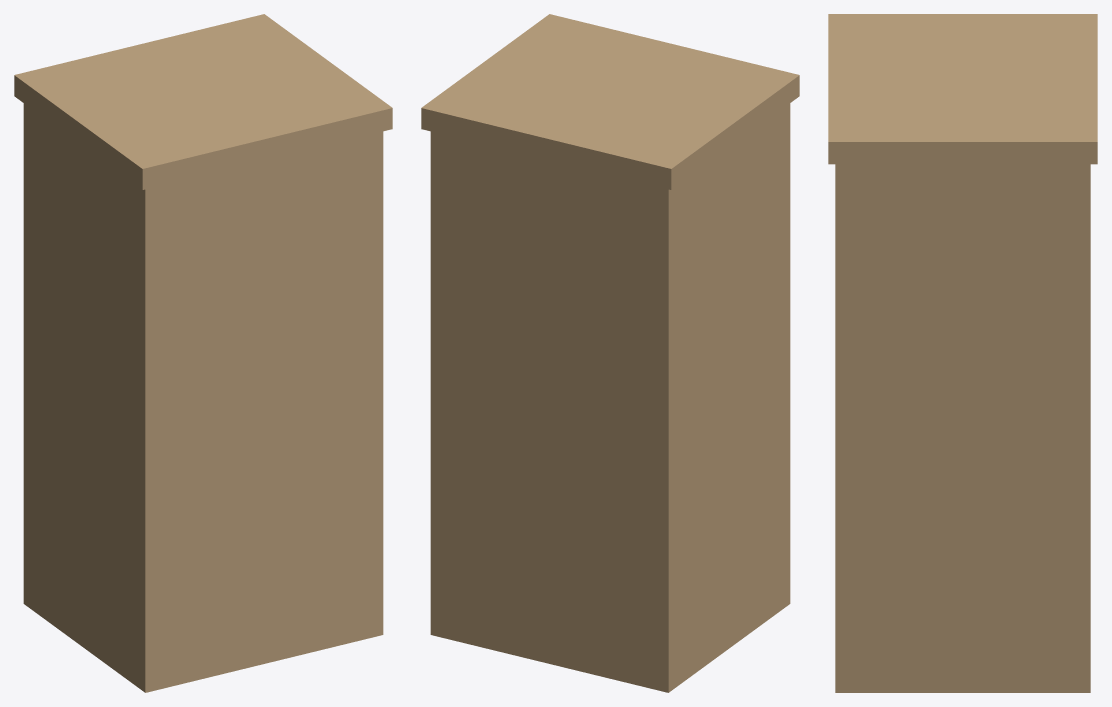
The model's file is res_tall_t3.glb.
3 renders of one model, left to right at view 1: azimuth 30°, elevation 25°; view 2: azimuth 150°, elevation 25°; view 3: azimuth 270°, elevation 25°, orthographic. The views are drawn at different scales.
Parts seen in each view (by area): view 1: res_tall_t3; view 2: res_tall_t3; view 3: res_tall_t3.
Boxes of the visible parts, x1,y1,x2,y2 form: res_tall_t3: (14, 14, 392, 692); res_tall_t3: (421, 14, 799, 692); res_tall_t3: (828, 14, 1097, 692).
Size of the model in its own units: 0.62 by 1.25 by 0.551.
